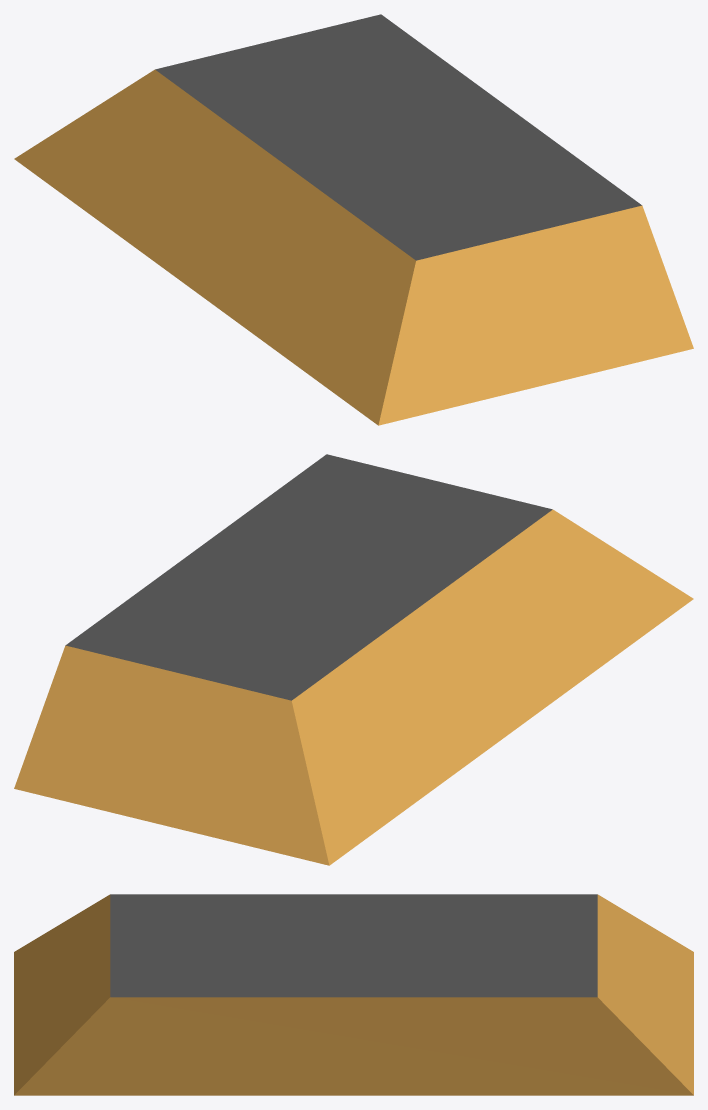
Rendered from Skate_Pill_Box_Half_01.FBX.
The picture shows the model from 3 angles, top to bottom: view 1: azimuth 30°, elevation 25°; view 2: azimuth 150°, elevation 25°; view 3: azimuth 270°, elevation 25°; orthographic projection. The views are drawn at different scales.
Parts seen in each view (by area): view 1: Skate_Pill_Box_Half_01; view 2: Skate_Pill_Box_Half_01; view 3: Skate_Pill_Box_Half_01.
Boxes of the visible parts, <box> form: Skate_Pill_Box_Half_01: <box>14,14,693,425</box>; Skate_Pill_Box_Half_01: <box>14,454,693,865</box>; Skate_Pill_Box_Half_01: <box>14,894,693,1095</box>.
Size of the model in its own units: 1.5 by 0.4789 by 3.
